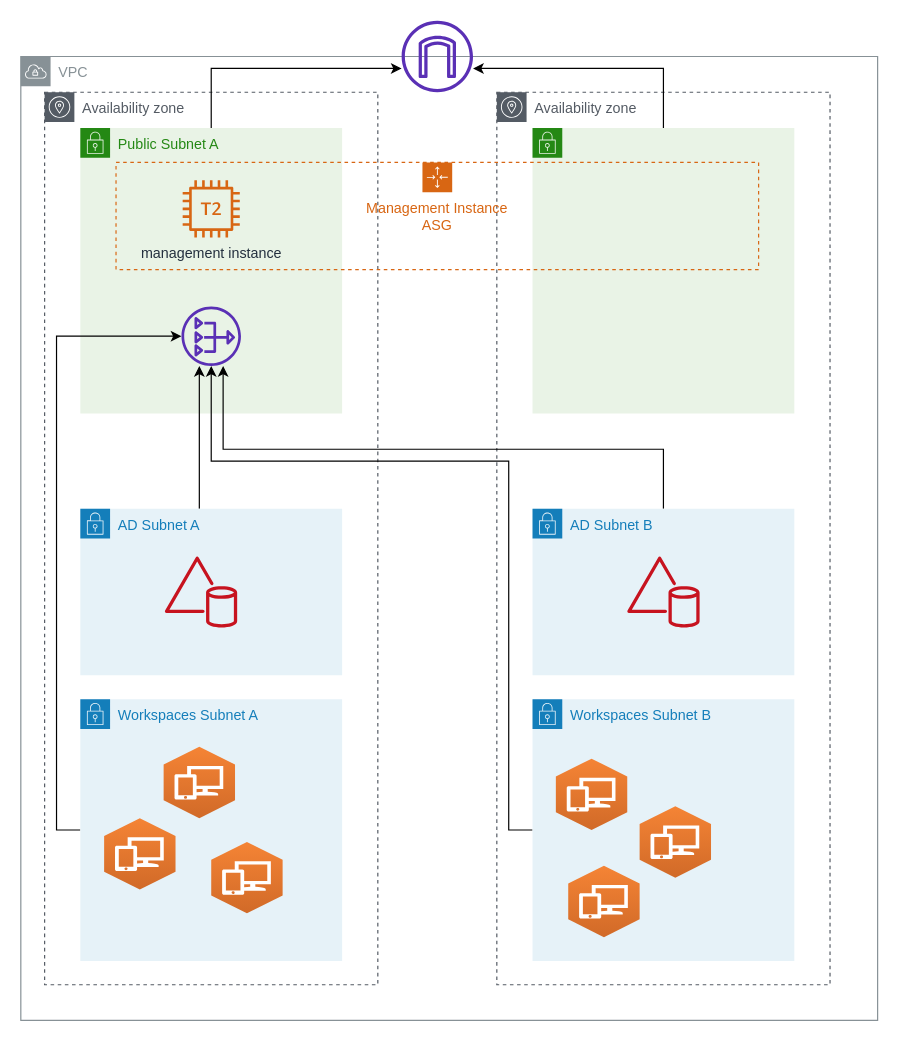
This 898x1041 diagram has some shape labels left out. The shapes that lost their labels are listed below. From the top down, each one's box as (x1, y1, x2, y2) in pixels, then its label:
(401, 20, 472, 92): IGW
(531, 127, 794, 414): Public Subnet B
(181, 306, 240, 365): NAT Gateway
(164, 556, 237, 627): SimpleAD node A
(627, 556, 699, 627): SimpleAD node B
